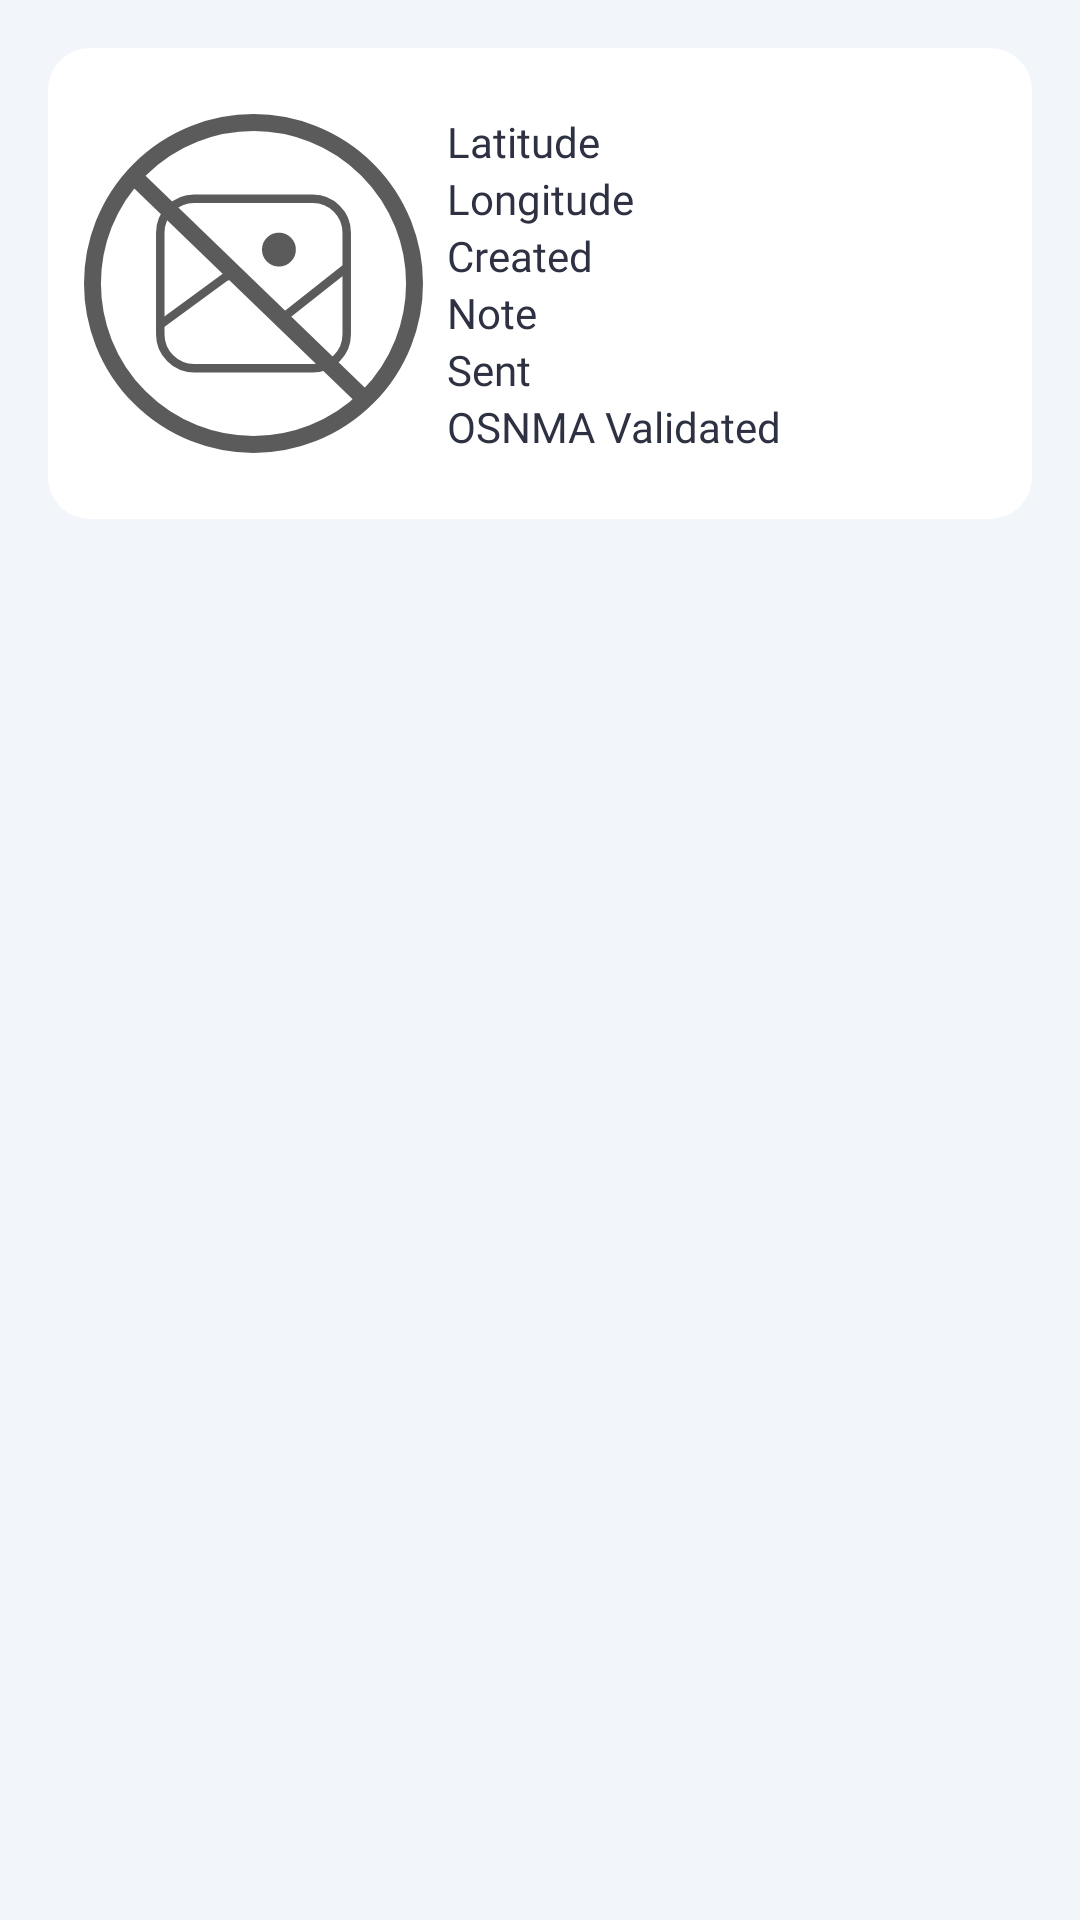

Icons on this 1080 × 1920 Android screen, each with its box as (x1, y1, x2, y2):
all no picture: (84, 114, 423, 453)
